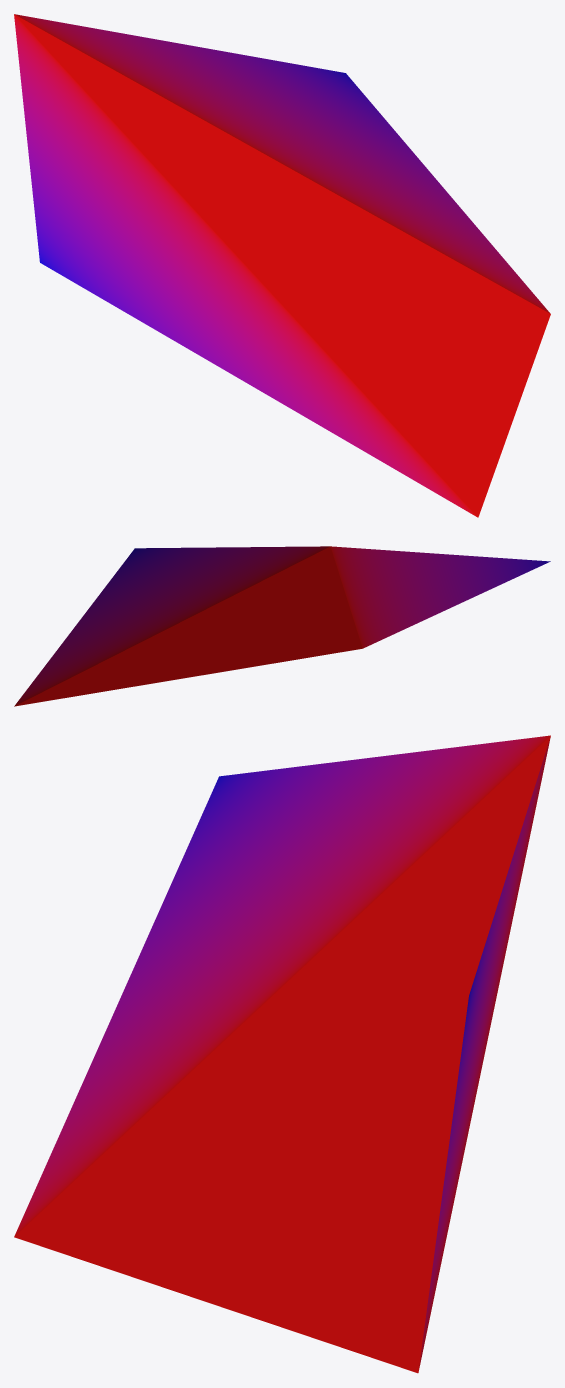
File: border_patch_14.obj
3 views of the same model, one above another, from view 1: azimuth 30°, elevation 25°; view 2: azimuth 150°, elevation 25°; view 3: azimuth 270°, elevation 25° (orthographic). The views are drawn at different scales.
Bounding box in the file's own units: 1.18 × 0.691 × 0.8569.
